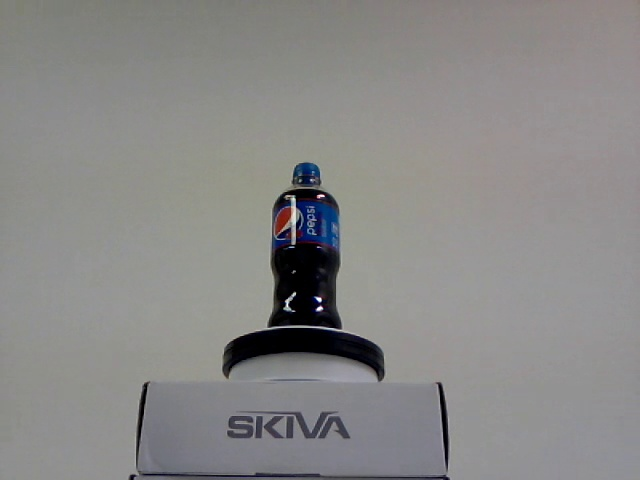botolplastik: (272, 164, 341, 327)
